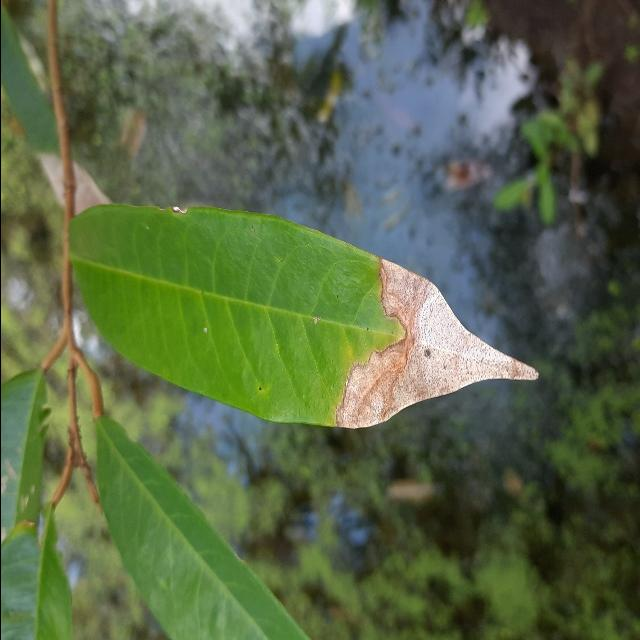Leaf Blight: (59, 197, 547, 433)
